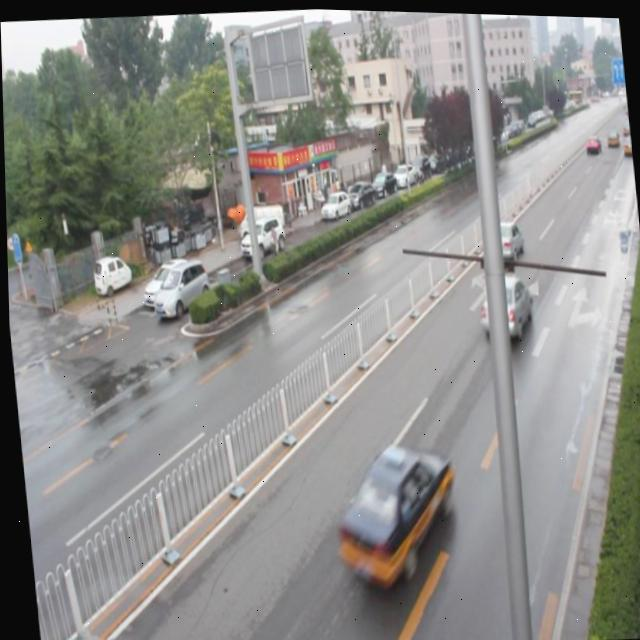car: (326, 435, 458, 587), (472, 267, 530, 343), (480, 214, 523, 257)
